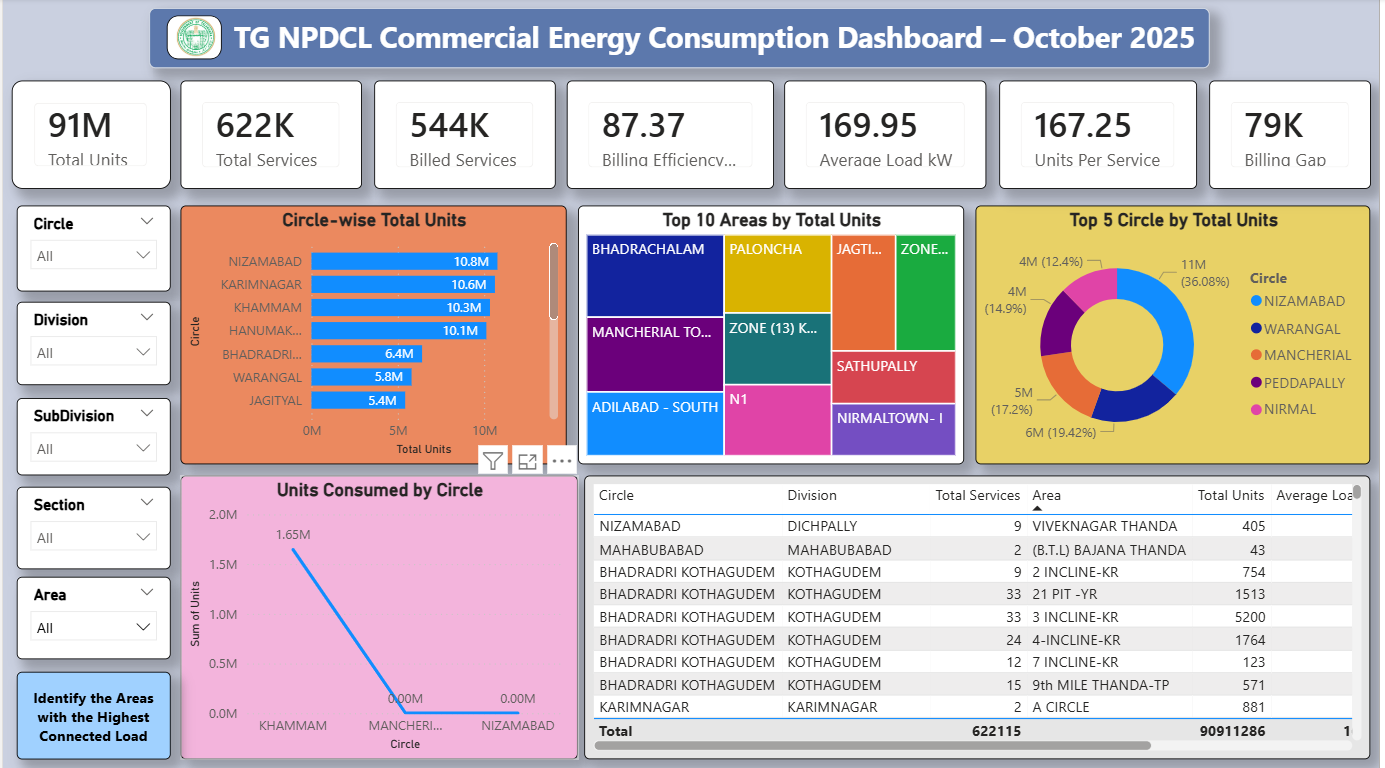

The dashboard page shown, as its layout file describes it:
{"tool":"powerbi","page":{"name":"Dashboard Overview","canvas":[1280,720],"ordinal":1},"visuals":[{"type":"textbox","box":[136,9.3,986,55.8],"z":0},{"type":"cardVisual","fields":{"Data":["TG-NPDCL_consumption_detail_commercial_OCTOBER-2025.Total Units"]},"box":[8.1,76.7,147.7,101.2],"z":1000},{"type":"cardVisual","title":"Total Services","fields":{"Data":["TG-NPDCL_consumption_detail_commercial_OCTOBER-2025.Total Services"]},"box":[165.1,76.7,168.6,101.2],"z":2000},{"type":"cardVisual","fields":{"Data":["TG-NPDCL_consumption_detail_commercial_OCTOBER-2025.Billed Services"]},"box":[345.3,76.7,168.6,101.2],"z":3000},{"type":"cardVisual","fields":{"Data":["TG-NPDCL_consumption_detail_commercial_OCTOBER-2025.Billing Efficiency %"]},"box":[524.4,76.7,193,101.2],"z":4000},{"type":"cardVisual","fields":{"Data":["TG-NPDCL_consumption_detail_commercial_OCTOBER-2025.Average Load kW"]},"box":[726.7,76.7,188.4,101.2],"z":5000},{"type":"slicer","fields":{"Values":["TG-NPDCL_consumption_detail_commercial_OCTOBER-2025.Circle"]},"box":[12.8,193,143,80.2],"z":6000},{"type":"slicer","fields":{"Values":["TG-NPDCL_consumption_detail_commercial_OCTOBER-2025.Division"]},"box":[12.8,282.6,143,77.9],"z":7000},{"type":"slicer","fields":{"Values":["TG-NPDCL_consumption_detail_commercial_OCTOBER-2025.SubDivision"]},"box":[12.8,372.1,143,72.1],"z":8000},{"type":"slicer","fields":{"Values":["TG-NPDCL_consumption_detail_commercial_OCTOBER-2025.Section"]},"box":[12.8,454.7,143,76.7],"z":9000},{"type":"slicer","fields":{"Values":["TG-NPDCL_consumption_detail_commercial_OCTOBER-2025.Area"]},"box":[12.8,538.4,143,76.7],"z":10000},{"type":"clusteredBarChart","title":"Circle-wise Total Units ","fields":{"Category":["TG-NPDCL_consumption_detail_commercial_OCTOBER-2025.Circle"],"Y":["TG-NPDCL_consumption_detail_commercial_OCTOBER-2025.Total Units"]},"box":[165.1,193,359.3,240.7],"z":11000},{"type":"treemap","title":"Top 10 Areas by Total Units","fields":{"Values":["TG-NPDCL_consumption_detail_commercial_OCTOBER-2025.Total Units"],"Details":["TG-NPDCL_consumption_detail_commercial_OCTOBER-2025.Area"]},"box":[534.9,193,359.3,240.7],"z":12000},{"type":"lineChart","title":"Units Consumed by Circle","fields":{"Y":["Sum(TG-NPDCL_consumption_detail_commercial_OCTOBER-2025.Units)"],"Category":["TG-NPDCL_consumption_detail_commercial_OCTOBER-2025.Circle"]},"box":[165.1,444.2,369.8,264],"z":13000},{"type":"donutChart","title":"Top 5 Circle by Total Units","fields":{"Category":["TG-NPDCL_consumption_detail_commercial_OCTOBER-2025.Circle"],"Y":["TG-NPDCL_consumption_detail_commercial_OCTOBER-2025.Total Units"]},"box":[904.7,193,367.4,240.7],"z":14000},{"type":"tableEx","fields":{"Values":["TG-NPDCL_consumption_detail_commercial_OCTOBER-2025.Circle","TG-NPDCL_consumption_detail_commercial_OCTOBER-2025.Division","TG-NPDCL_consumption_detail_commercial_OCTOBER-2025.Total Services","TG-NPDCL_consumption_detail_commercial_OCTOBER-2025.Area","TG-NPDCL_consumption_detail_commercial_OCTOBER-2025.Total Units","TG-NPDCL_consumption_detail_commercial_OCTOBER-2025.Average Load kW","TG-NPDCL_consumption_detail_commercial_OCTOBER-2025.Billing Efficiency %","TG-NPDCL_consumption_detail_commercial_OCTOBER-2025.Billed Services"]},"box":[540.7,444.2,731.4,264],"z":15000},{"type":"cardVisual","fields":{"Data":["TG-NPDCL_consumption_detail_commercial_OCTOBER-2025.Units Per Service"]},"box":[926.7,76.7,183.7,101.2],"z":16000},{"type":"cardVisual","fields":{"Data":["TG-NPDCL_consumption_detail_commercial_OCTOBER-2025.Billing Gap"]},"box":[1122.1,76.7,150,101.2],"z":17000},{"type":"actionButton","box":[12.8,626.7,143,81.4],"z":18000},{"type":"image","box":[151.9,16.7,51.1,40.7],"z":19000}]}

Visuals, with their boxes in screenshot pixels (x1, y1, x2, y2), scaled from the page's 1280x720 canvas onto the 1385x768 screenshot:
textbox: bbox(147, 10, 1214, 69)
cardVisual - TG-NPDCL_consumption_detail_commercial_OCTOBER-2025.Total Units: bbox(9, 82, 169, 190)
"Total Services" cardVisual: bbox(179, 82, 361, 190)
cardVisual - TG-NPDCL_consumption_detail_commercial_OCTOBER-2025.Billed Services: bbox(374, 82, 556, 190)
cardVisual - TG-NPDCL_consumption_detail_commercial_OCTOBER-2025.Billing Efficiency %: bbox(567, 82, 776, 190)
cardVisual - TG-NPDCL_consumption_detail_commercial_OCTOBER-2025.Average Load kW: bbox(786, 82, 990, 190)
slicer - TG-NPDCL_consumption_detail_commercial_OCTOBER-2025.Circle: bbox(14, 206, 169, 291)
slicer - TG-NPDCL_consumption_detail_commercial_OCTOBER-2025.Division: bbox(14, 301, 169, 385)
slicer - TG-NPDCL_consumption_detail_commercial_OCTOBER-2025.SubDivision: bbox(14, 397, 169, 474)
slicer - TG-NPDCL_consumption_detail_commercial_OCTOBER-2025.Section: bbox(14, 485, 169, 567)
slicer - TG-NPDCL_consumption_detail_commercial_OCTOBER-2025.Area: bbox(14, 574, 169, 656)
"Circle-wise Total Units " clusteredBarChart: bbox(179, 206, 567, 463)
"Top 10 Areas by Total Units" treemap: bbox(579, 206, 968, 463)
"Units Consumed by Circle" lineChart: bbox(179, 474, 579, 755)
"Top 5 Circle by Total Units" donutChart: bbox(979, 206, 1376, 463)
tableEx - TG-NPDCL_consumption_detail_commercial_OCTOBER-2025.Circle x TG-NPDCL_consumption_detail_commercial_OCTOBER-2025.Division: bbox(585, 474, 1376, 755)
cardVisual - TG-NPDCL_consumption_detail_commercial_OCTOBER-2025.Units Per Service: bbox(1003, 82, 1201, 190)
cardVisual - TG-NPDCL_consumption_detail_commercial_OCTOBER-2025.Billing Gap: bbox(1214, 82, 1376, 190)
actionButton: bbox(14, 668, 169, 755)
image: bbox(164, 18, 220, 61)
